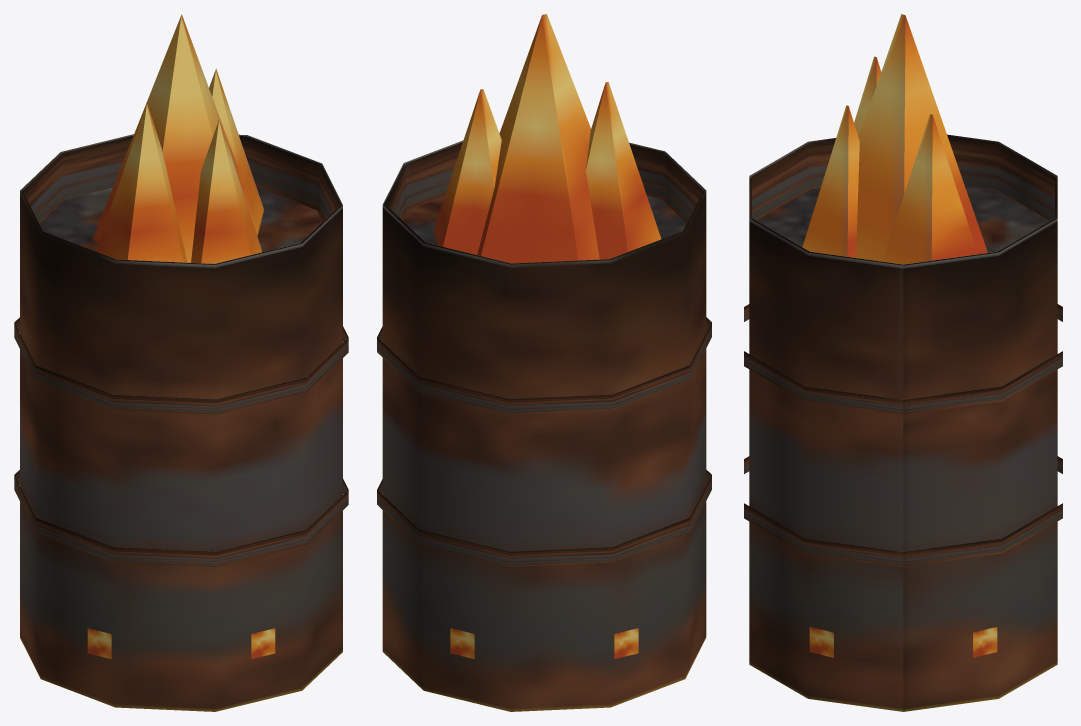
Rendered from burn_barrel.obj.
3 renders of one model, left to right at view 1: azimuth 30°, elevation 25°; view 2: azimuth 150°, elevation 25°; view 3: azimuth 270°, elevation 25°, orthographic.
Visible parts, largest first — view 1: burn_barrel, burn_barrel_lamp_fire; view 2: burn_barrel, burn_barrel_lamp_fire; view 3: burn_barrel, burn_barrel_lamp_fire.
Boxes of the visible parts, left/top/right/bottom form: burn_barrel: left=14, top=134, right=348, bottom=711; burn_barrel_lamp_fire: left=92, top=14, right=263, bottom=263; burn_barrel: left=377, top=140, right=711, bottom=711; burn_barrel_lamp_fire: left=433, top=14, right=661, bottom=263; burn_barrel: left=744, top=134, right=1062, bottom=711; burn_barrel_lamp_fire: left=802, top=14, right=987, bottom=264.
Bounding box in the file's own units: 0.6 × 1.24 × 0.584.
1 material, 1 textured.
